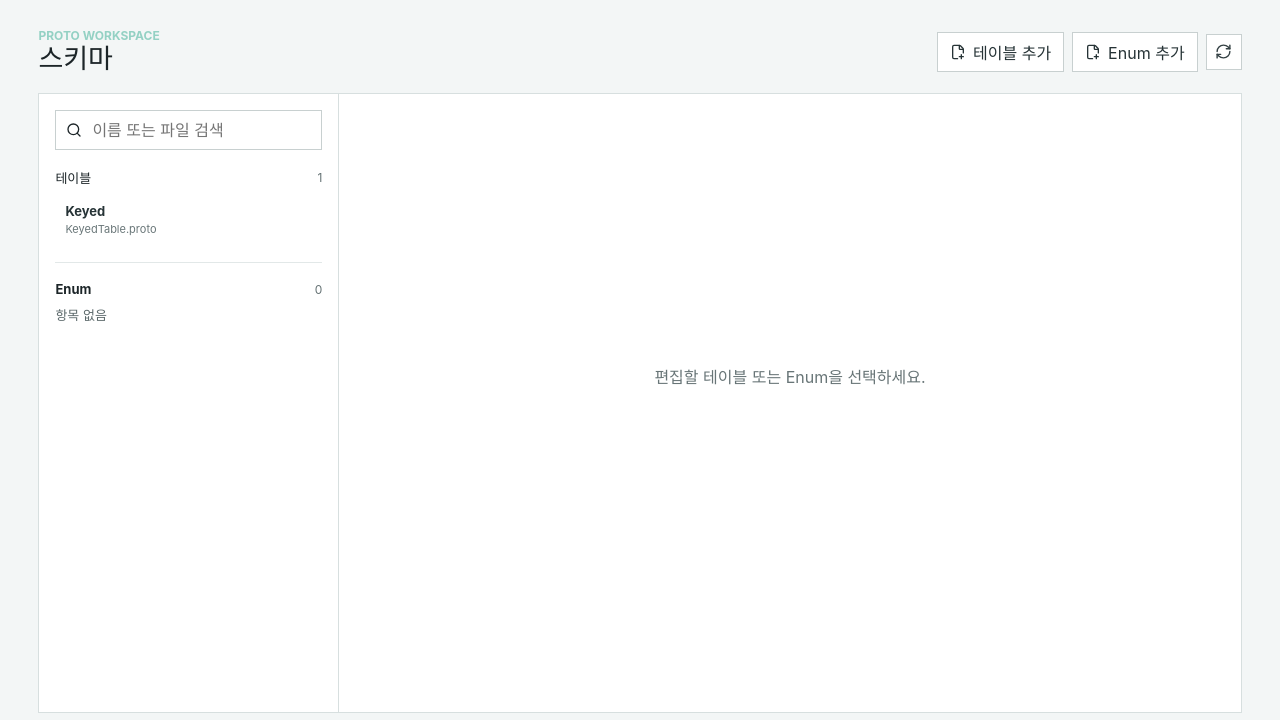
Scenario: SchemaScreen › shows a policy violation inline and blocks the Proto write
Click the button with aria-label "Keyed (KeyedTable.proto)" at coordinates (85, 211), box [55,195,322,244]
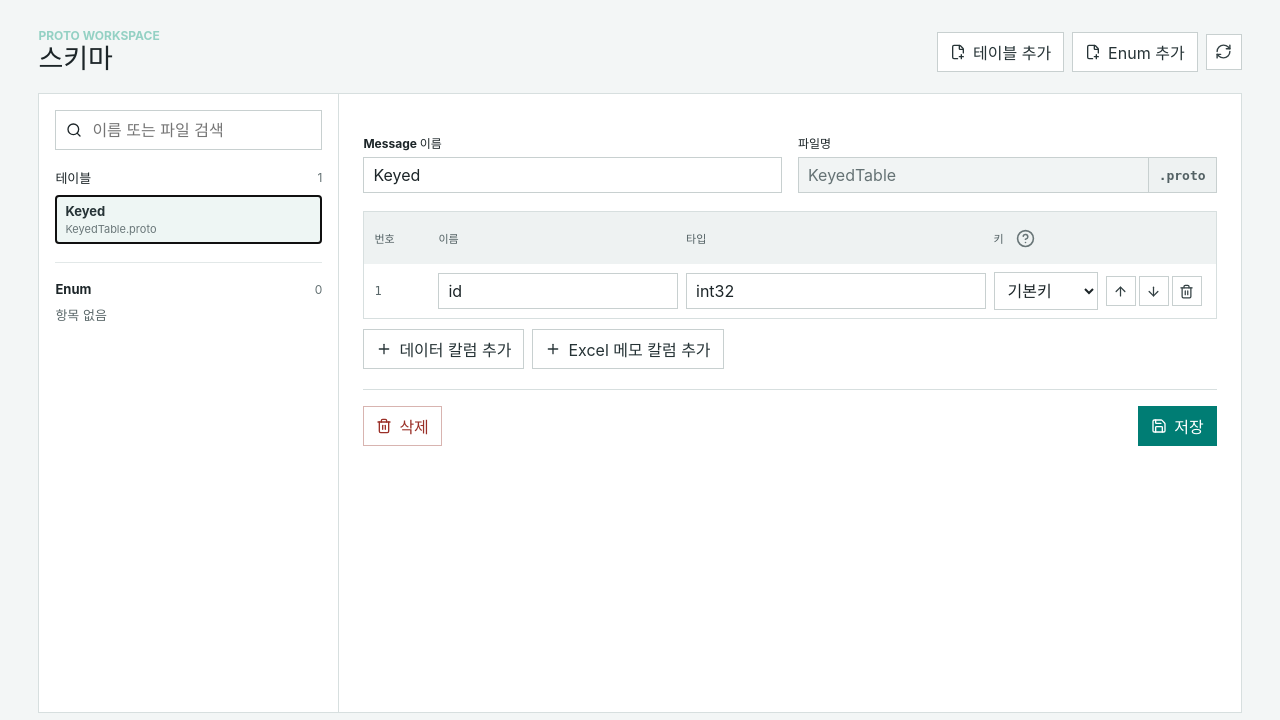
Replace the text in the field named "필드 1 타입" with "string" at coordinates (836, 291), box [686,273,986,309]
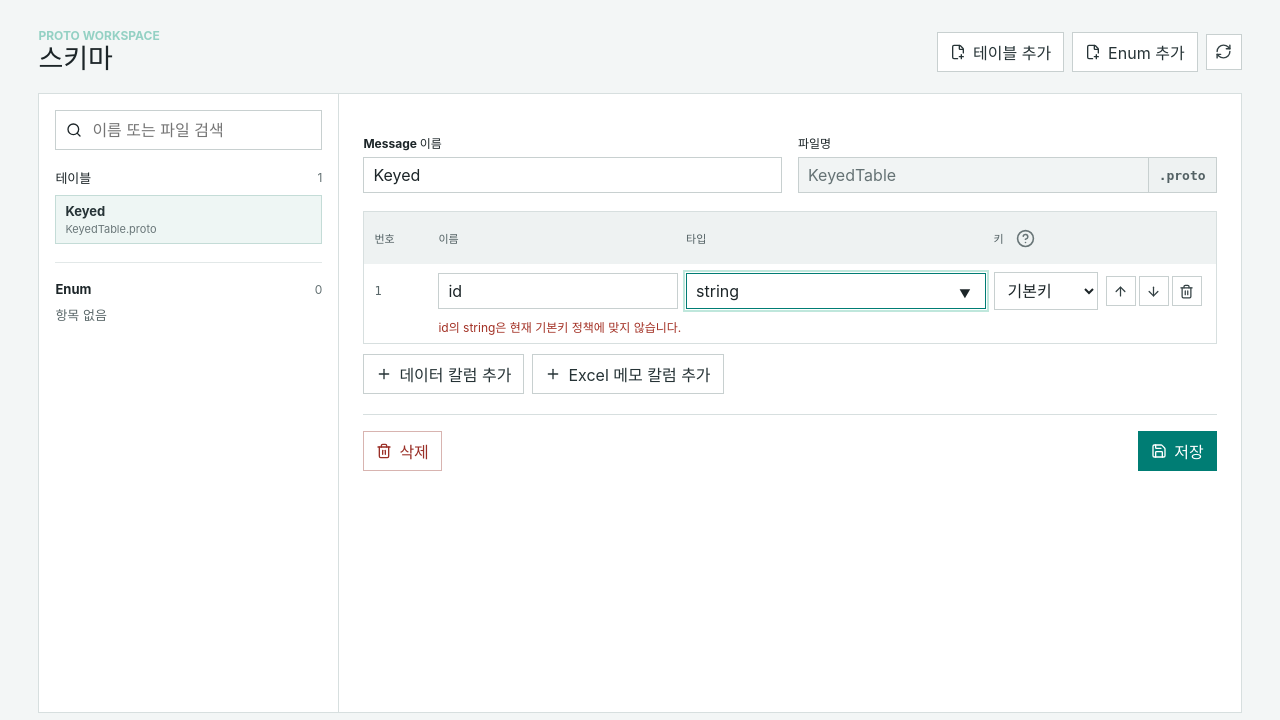
Result: the text "id의 string은 현재 기본키 정책에 맞지 않습니다." is shown at [438,320,681,335]
Click the button "저장" at coordinates (1177, 451), box [1138,431,1217,471]
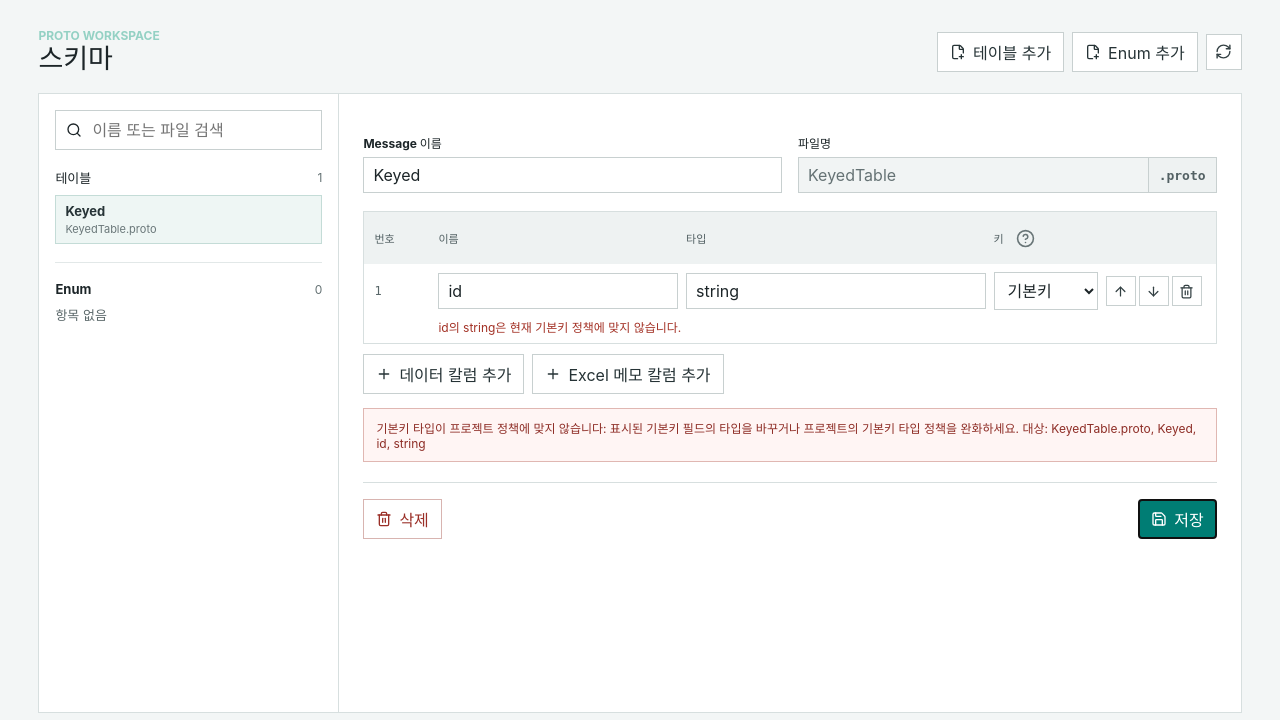
Result: the text "기본키 타입이 프로젝트 정책에 맞지 않습니다" is shown at [376,421,1196,451]
